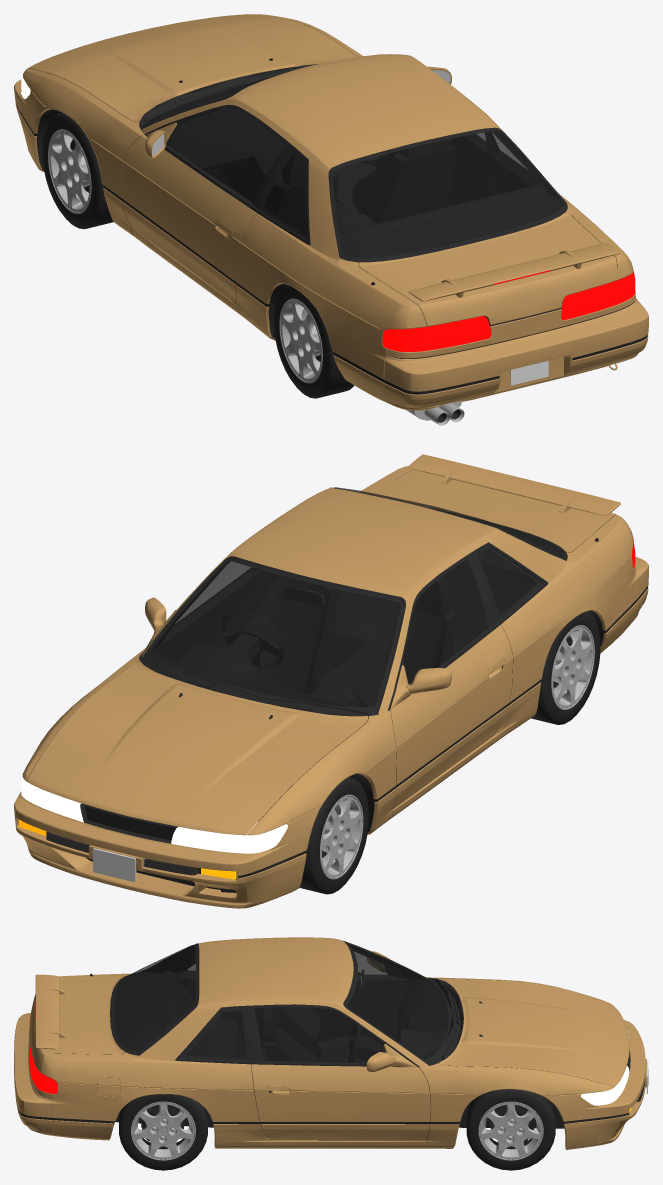
File: Nissan_Silvia_S13.gltf
3 renders of one model, top to bottom at view 1: azimuth 30°, elevation 25°; view 2: azimuth 150°, elevation 25°; view 3: azimuth 270°, elevation 25°, orthographic. The views are drawn at different scales.
Parts seen in each view (by area): view 1: Nissan Silvia S13, Front Left Wheel, Rear_Left_Wheel; view 2: Nissan Silvia S13, Front Left Wheel, Rear_Left_Wheel; view 3: Nissan Silvia S13, Front Right Wheel, Rear_Right_Wheel.
Part boxes in pixels (x1,y1,x2,y2): Nissan Silvia S13: [14, 14, 648, 425]; Front Left Wheel: [42, 112, 113, 229]; Rear_Left_Wheel: [273, 284, 354, 398]; Nissan Silvia S13: [14, 454, 648, 908]; Front Left Wheel: [299, 777, 368, 894]; Rear_Left_Wheel: [531, 611, 600, 724]; Nissan Silvia S13: [14, 937, 648, 1149]; Front Right Wheel: [466, 1089, 555, 1170]; Rear_Right_Wheel: [119, 1094, 207, 1170].
Bounding box in the file's own units: 0.8345 × 0.5509 × 2.01.
